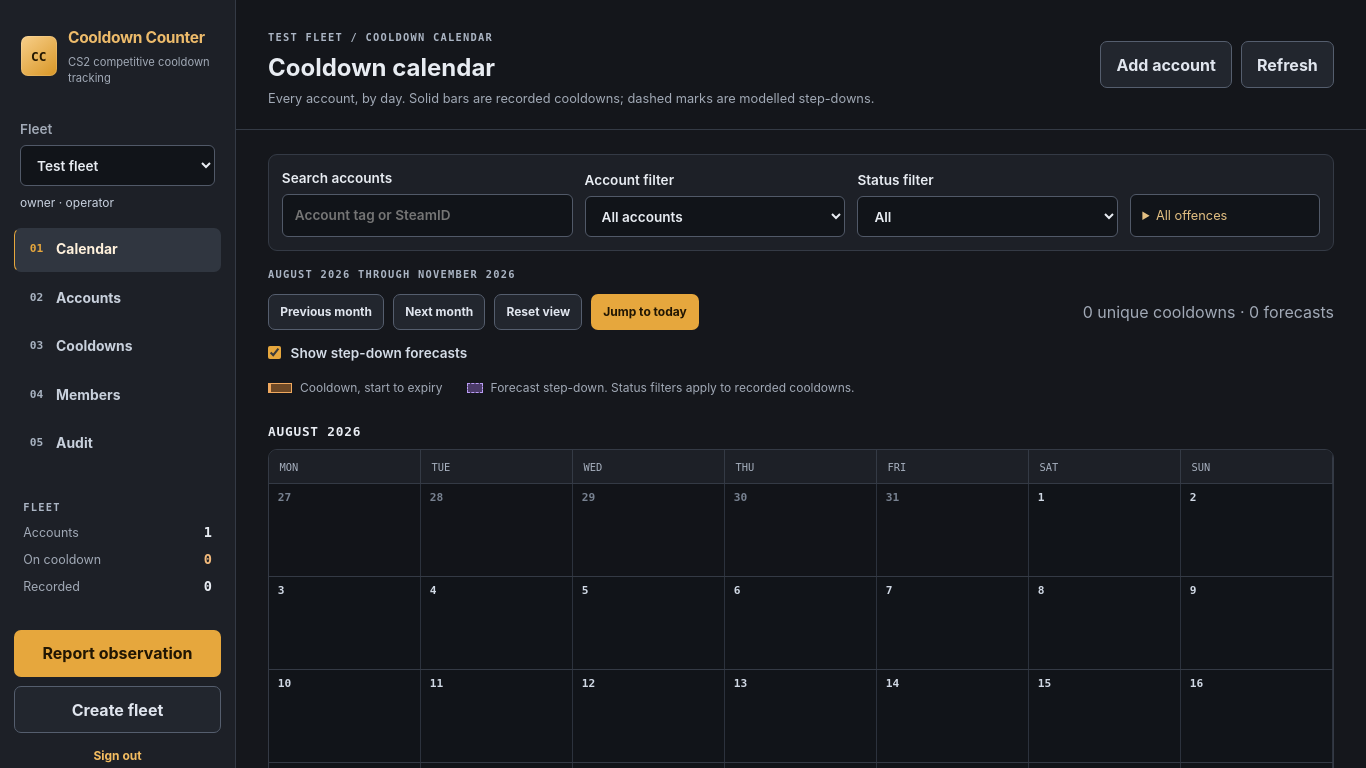
Test: announces an accepted report after closing its modal
The image size is (1366, 768).
Click the button "Report observation" at (118, 653), box [14,630,221,677]
(page scrolled)
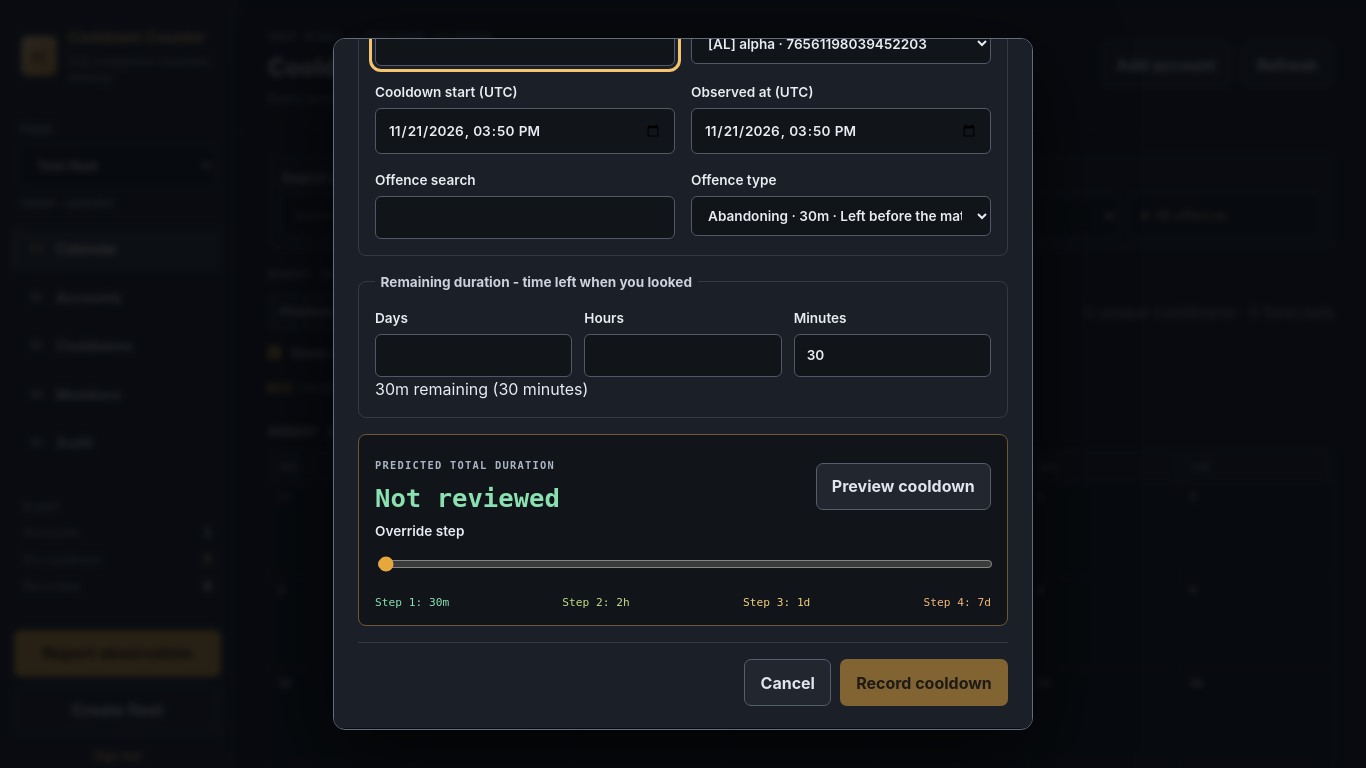
Click the button "Preview cooldown" at (903, 486), box [816,463,991,510]
(page scrolled)
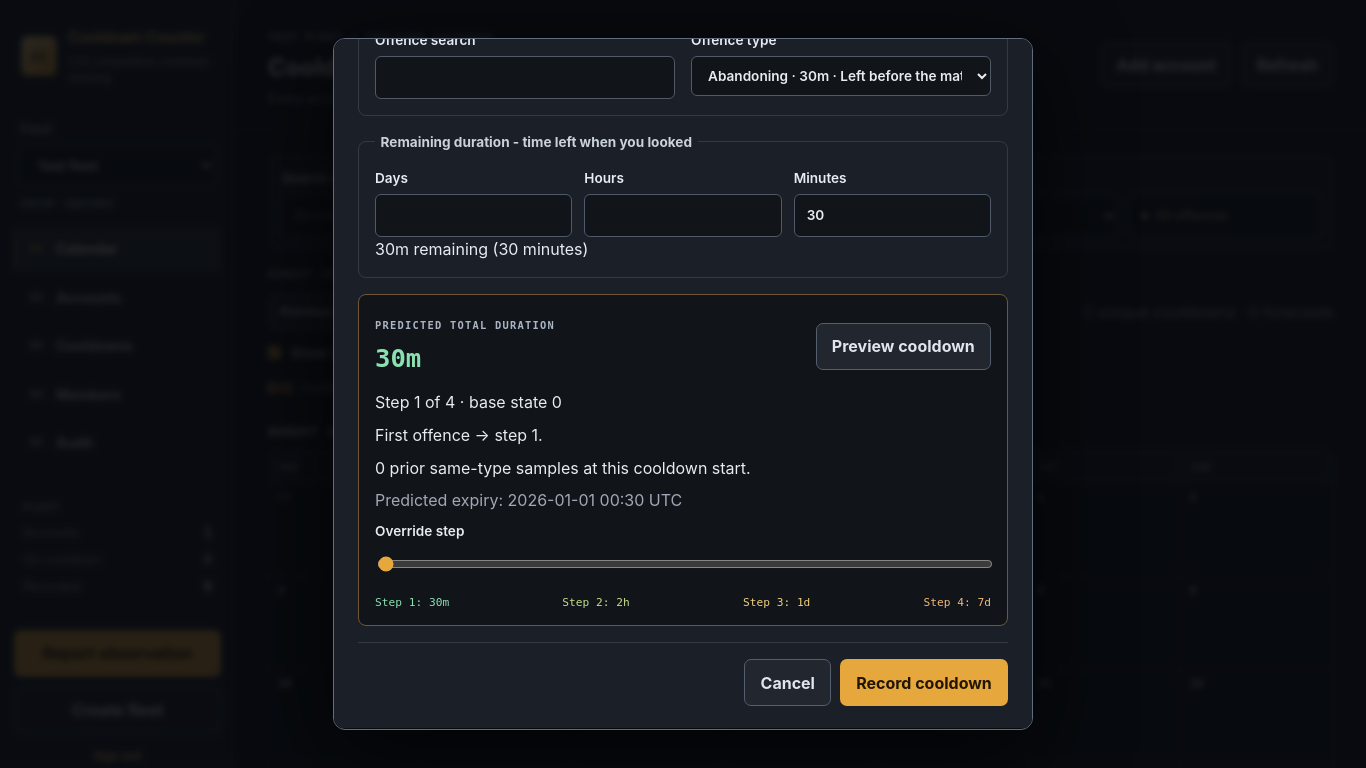
Click the button "Record cooldown" at (924, 683), box [840,659,1008,706]
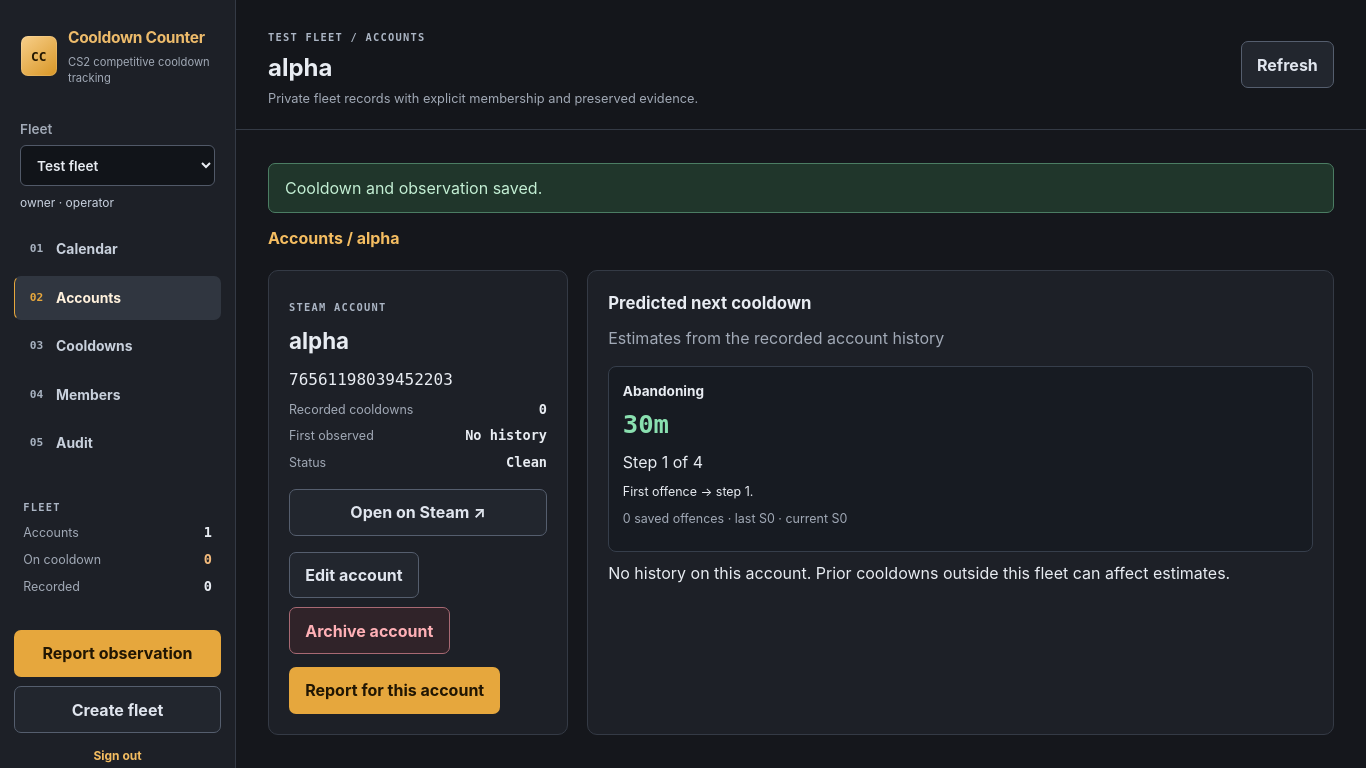
Click the button "01 Calendar" at (118, 250), box [14,228,221,272]
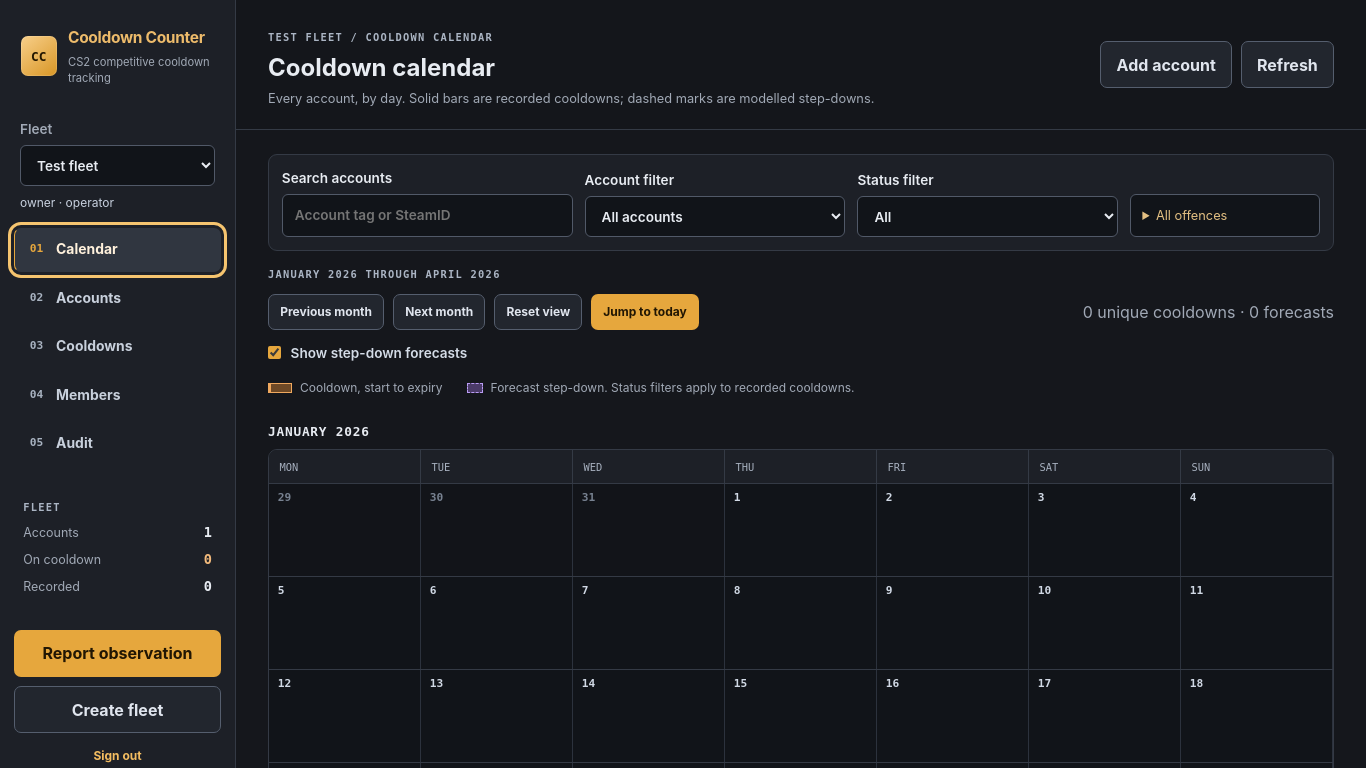
Check: the heading "January 2026" is shown, box [268,424,370,439]
